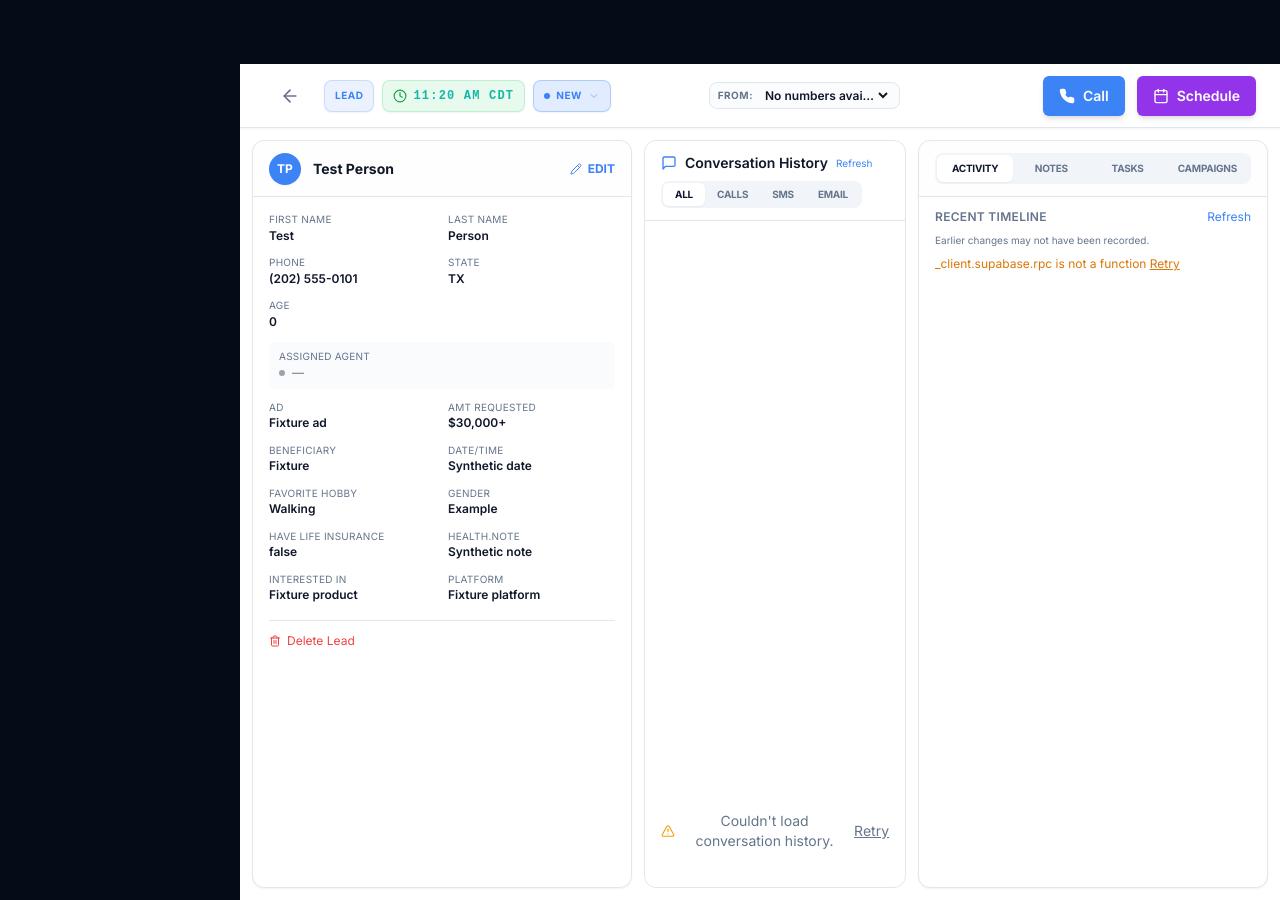
Scenario: visibility, editing and preservation › shows all ten synthetic keys once for lead and includes empty permitted fields only in Edit
Check: the text "false" is shown, box [269,544,297,560]
Click the button "EDIT" at (592, 168), box [570,160,615,176]
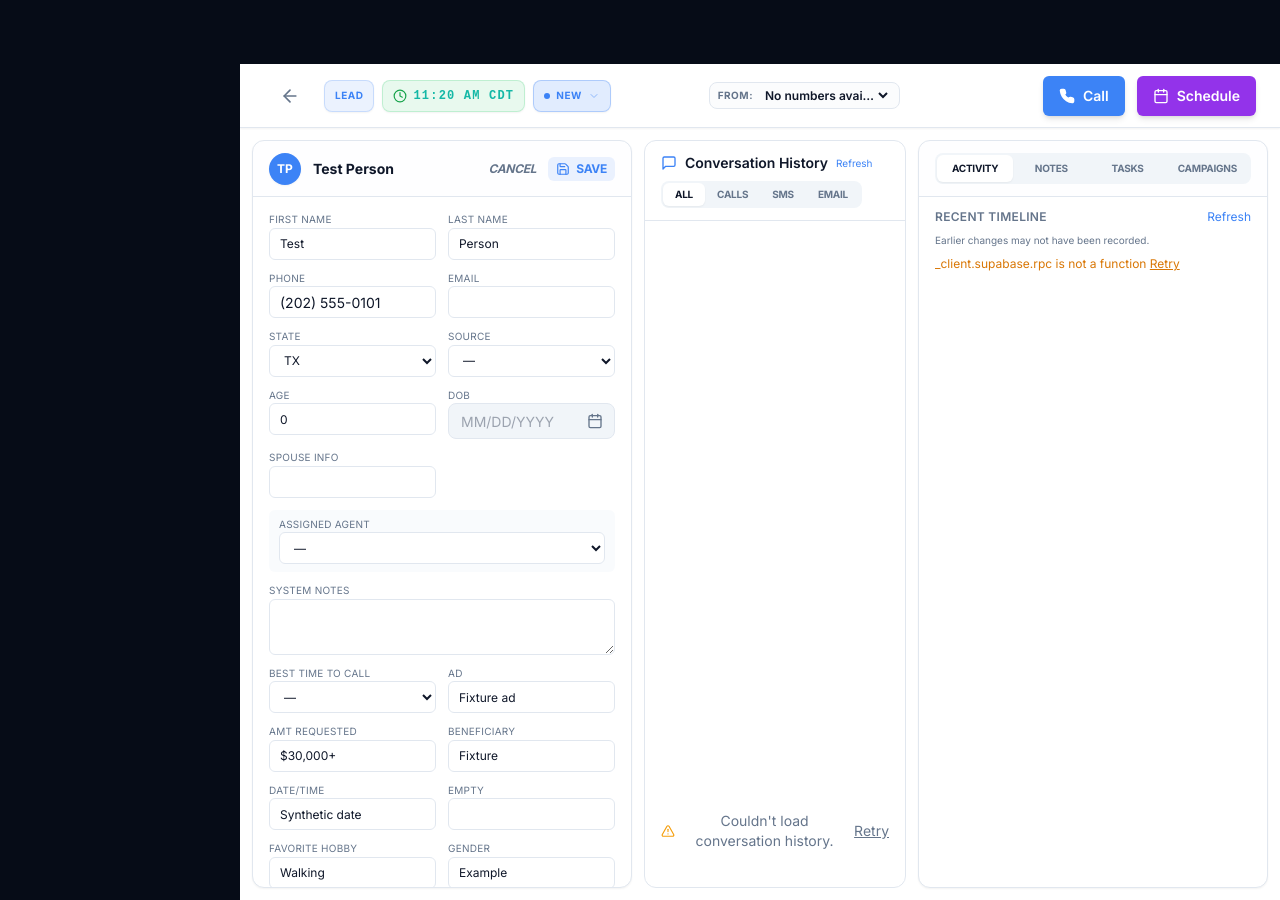
Check: the field named "Empty" holds " ", box [448,798,615,830]
Check: the dropdown named "Best Time to Call" is shown, box [269,681,436,713]
